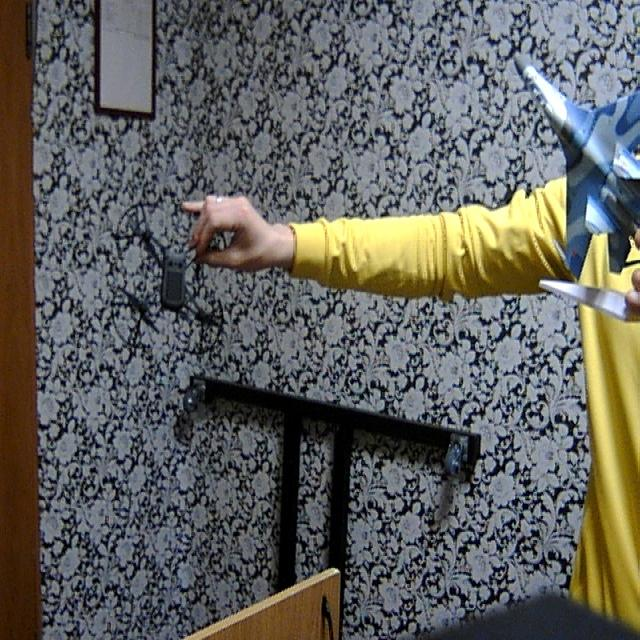drone: (103, 184, 235, 366)
